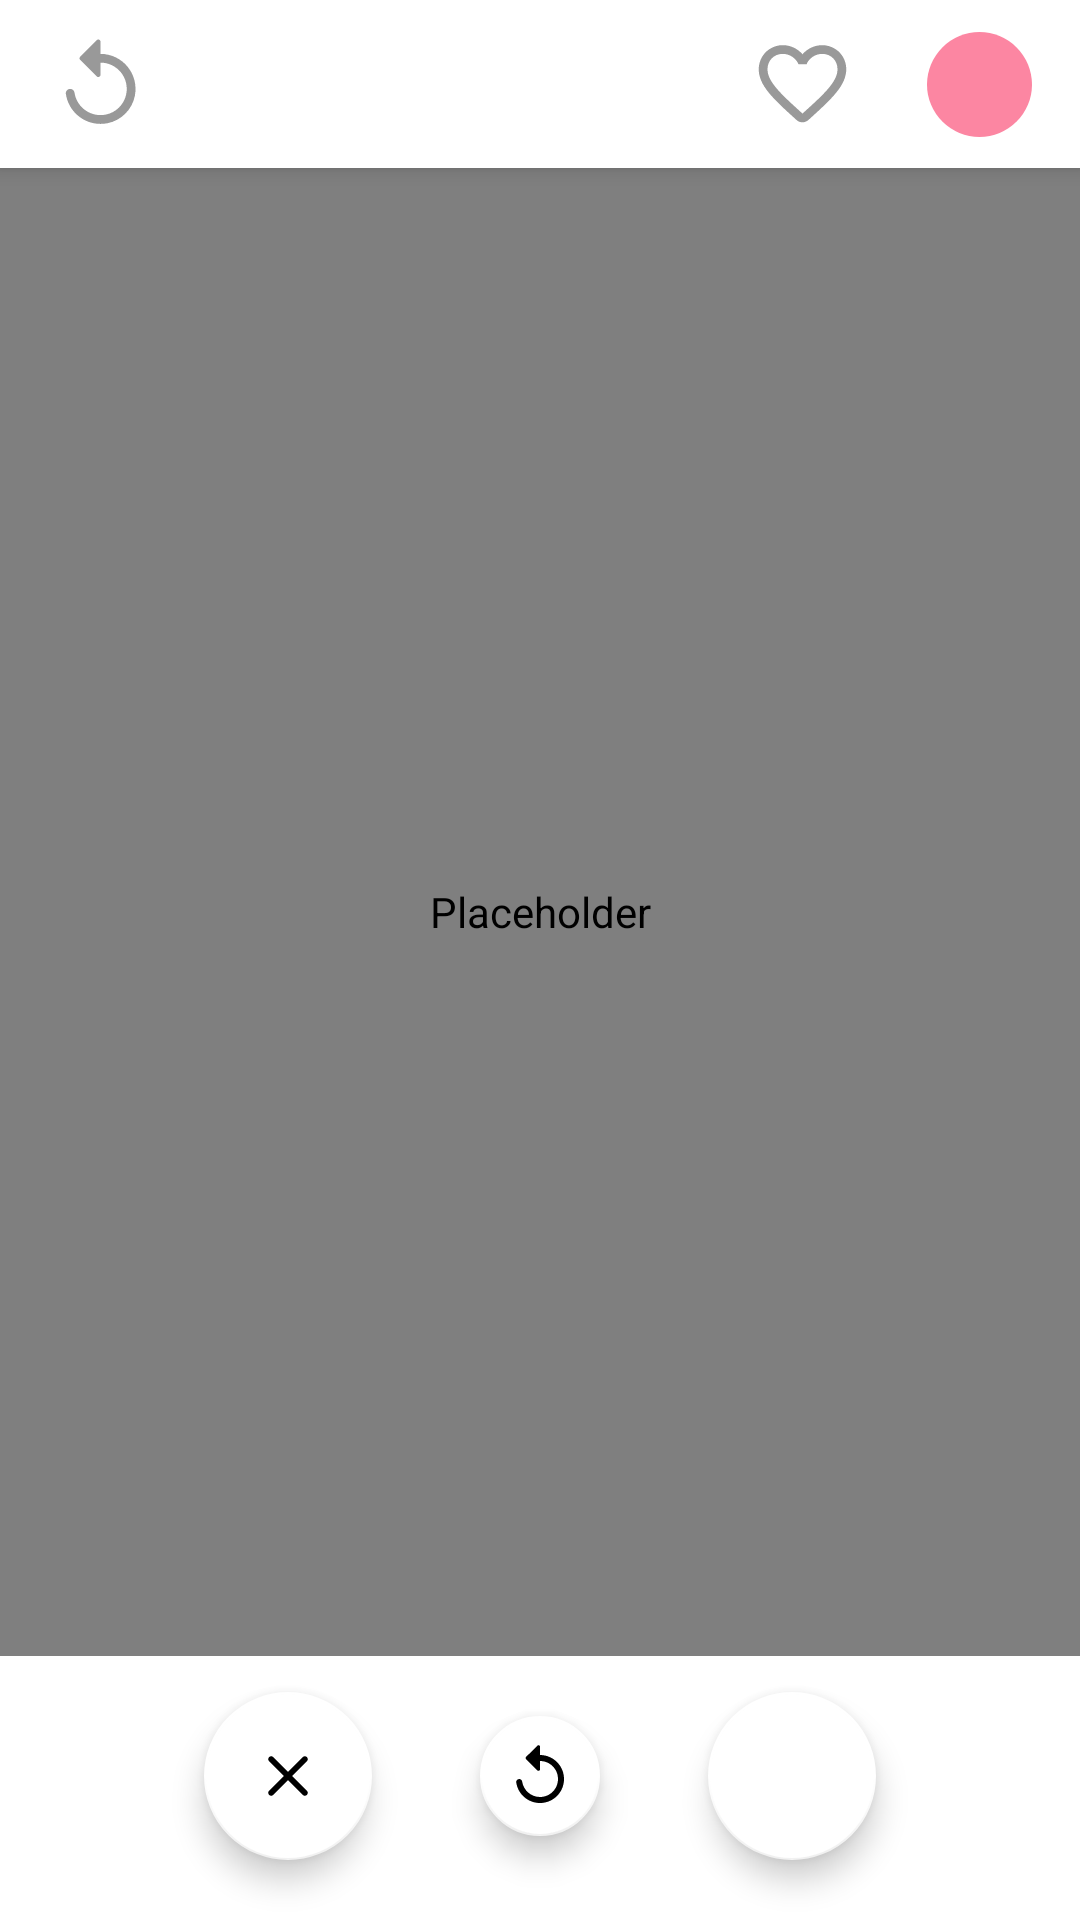

Named icons in this screenshot (1080px x 1920px) and their bounding boxes, (x1, y1, x2, y2):
favorite border: (758, 45, 847, 123)
Sebelumnya: (65, 39, 136, 124), (482, 1745, 599, 1848)
